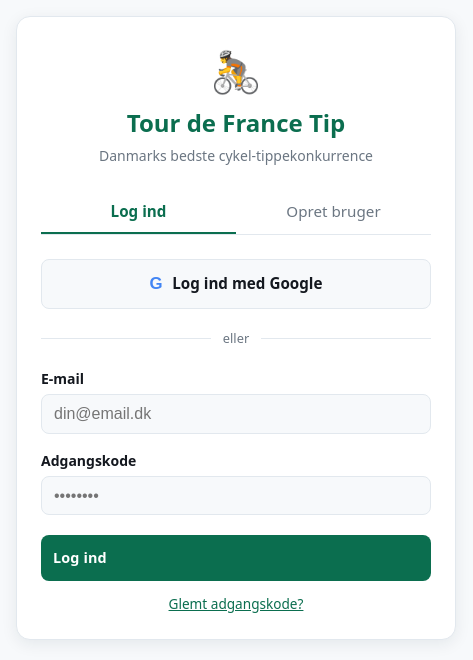
Test: LoginPage › skifter tilbage til login ved klik på Tilbage til login
The image size is (473, 660).
Click the button "Glemt adgangskode?" at (236, 604), box left=162, top=593, right=309, bottom=615
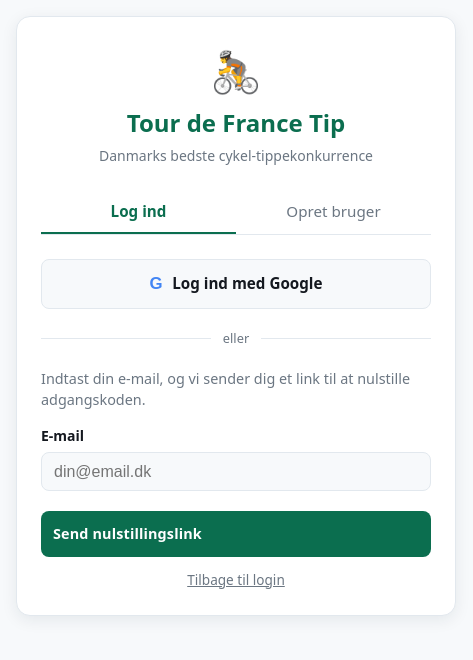
Click the button "Tilbage til login" at (236, 580), box left=181, top=569, right=291, bottom=591
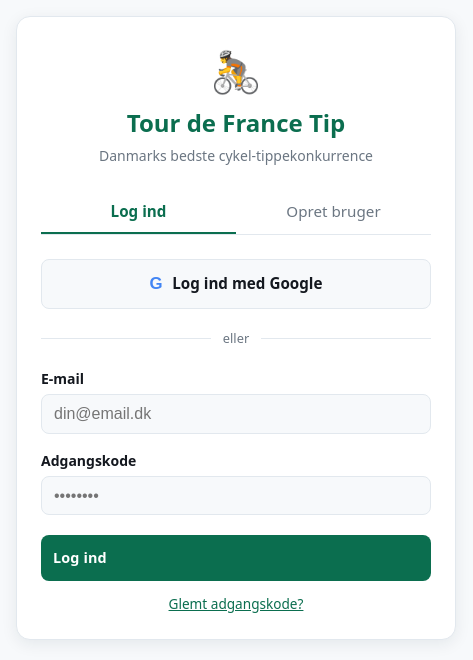
expect the button "Send nulstillingslink" is gone: met
